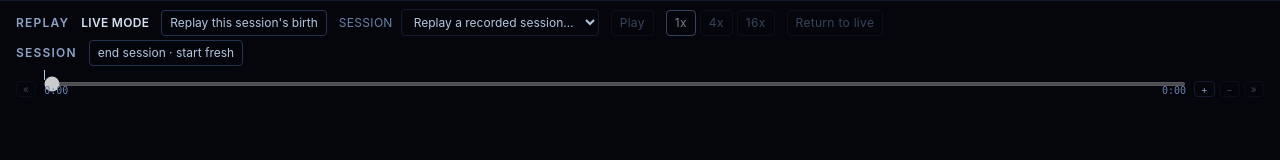
ReplayControls › play/pause toggles the transport button label
The image size is (1280, 160).
Select "1970-01-01T00:00:01.000Z" in the dropdown labelled "session" at (500, 22), box top-left (401, 9), bottom-right (599, 36)
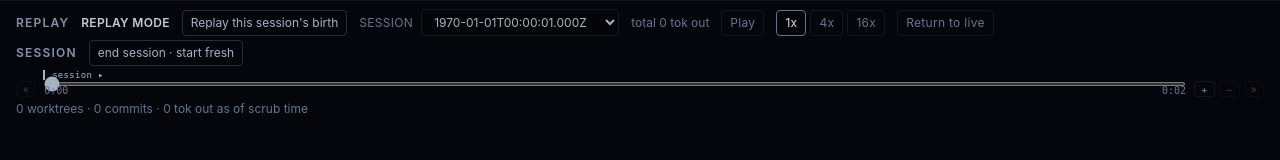
Expected: the text "Replay mode" is shown, top-left (81, 14), bottom-right (170, 30)
Click the button "Play" at (743, 22), box top-left (721, 10), bottom-right (764, 36)
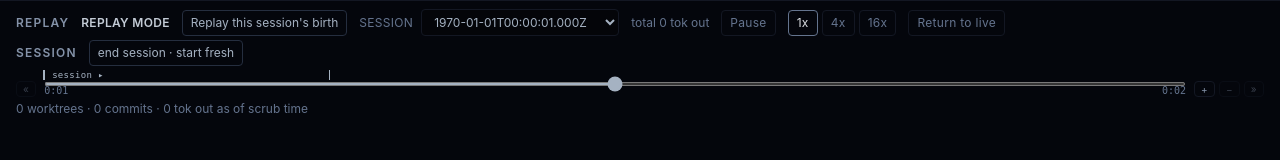
Expected: the button "Pause" is shown, top-left (721, 10), bottom-right (776, 36)
